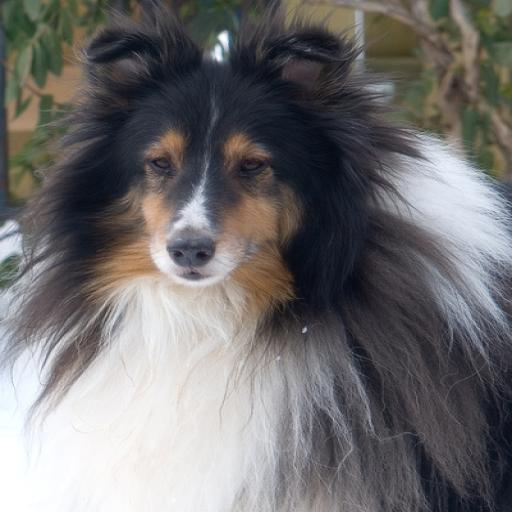dog_face: (80, 28, 364, 297)
